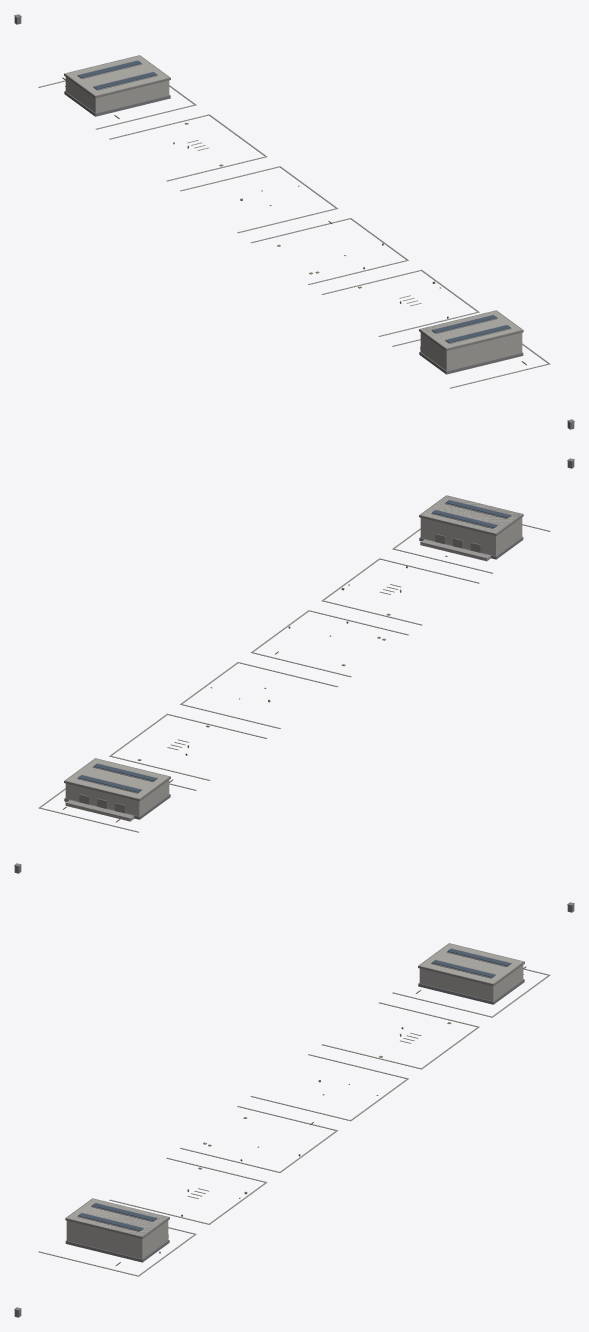
File: city_cell_3_0.glb
3 renders of one model, top to bottom at view 1: azimuth 30°, elevation 25°; view 2: azimuth 150°, elevation 25°; view 3: azimuth 330°, elevation 25°, orthographic.
Parts seen in each view (by area): view 1: Cube.018; view 2: Cube.018; view 3: Cube.018.
Part boxes in pixels (x1=…): Cube.018: x1=14, y1=14, x2=574, y2=429; Cube.018: x1=14, y1=458, x2=574, y2=873; Cube.018: x1=14, y1=902, x2=574, y2=1317.
Bounding box in the file's own units: 45 × 11.56 × 432.
